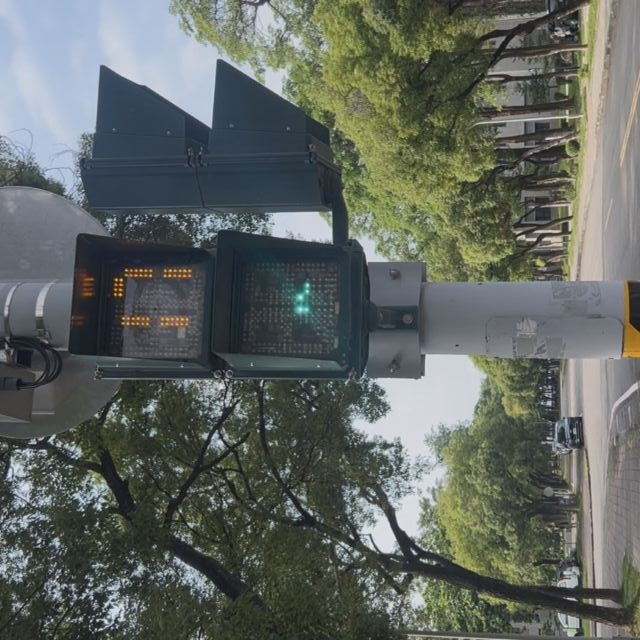green_light: (72, 230, 368, 375)
